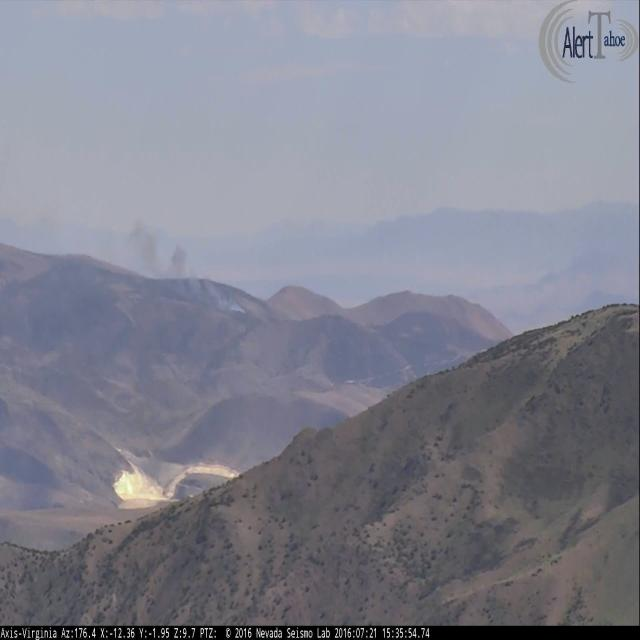smoke: (130, 220, 247, 317)
